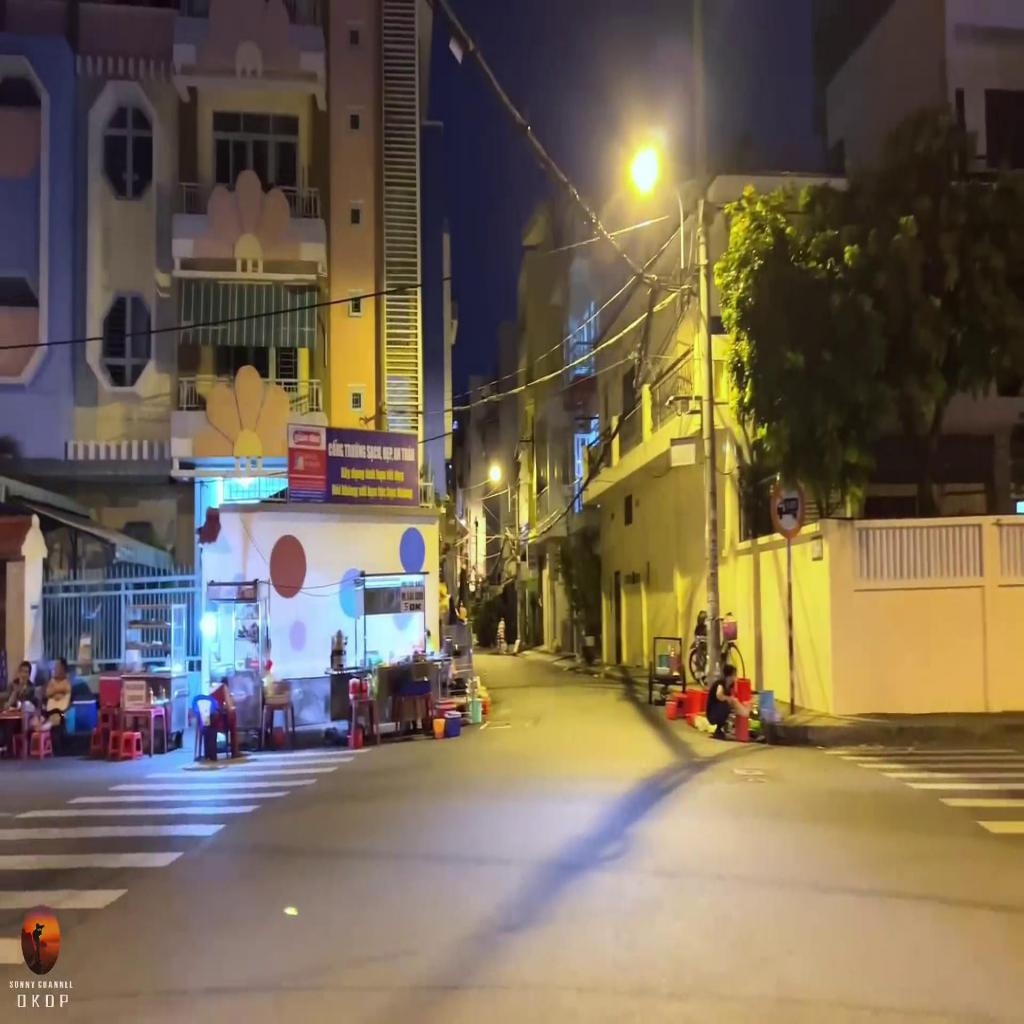cam_o_to_tai: (770, 477, 805, 538)
